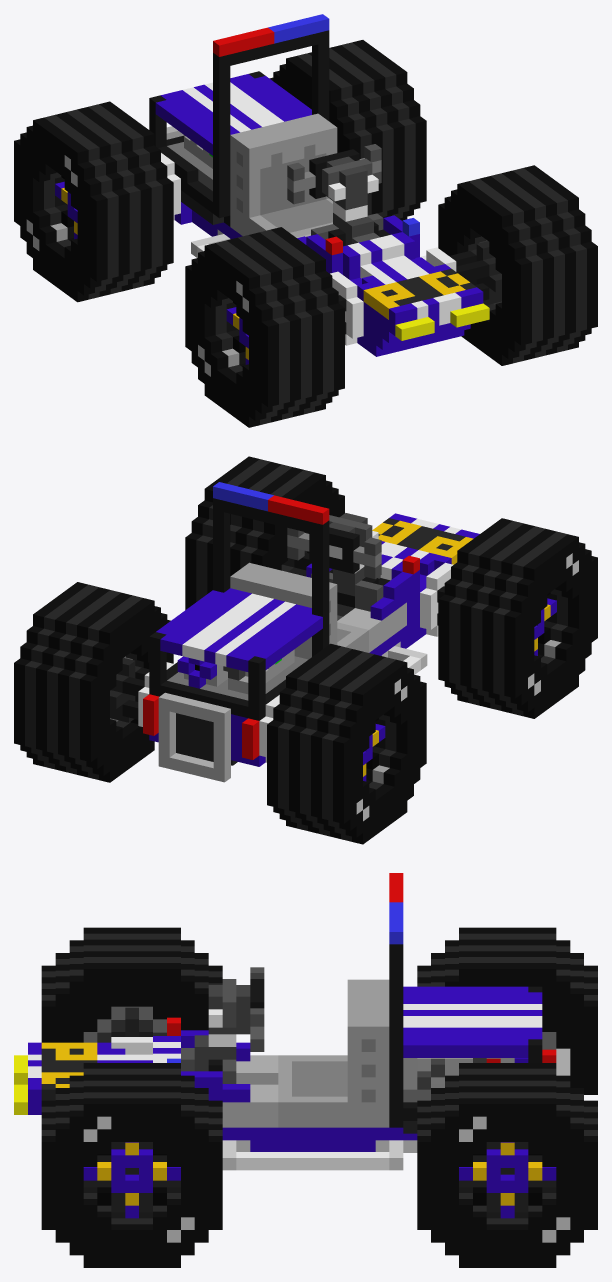
The model's file is Police_Kart.obj.
The picture shows the model from 3 angles, top to bottom: view 1: azimuth 30°, elevation 25°; view 2: azimuth 150°, elevation 25°; view 3: azimuth 270°, elevation 25°; orthographic projection. The views are drawn at different scales.
Bounding box in the file's own units: 3 × 2.2 × 4.2.
1 material, 1 textured.
